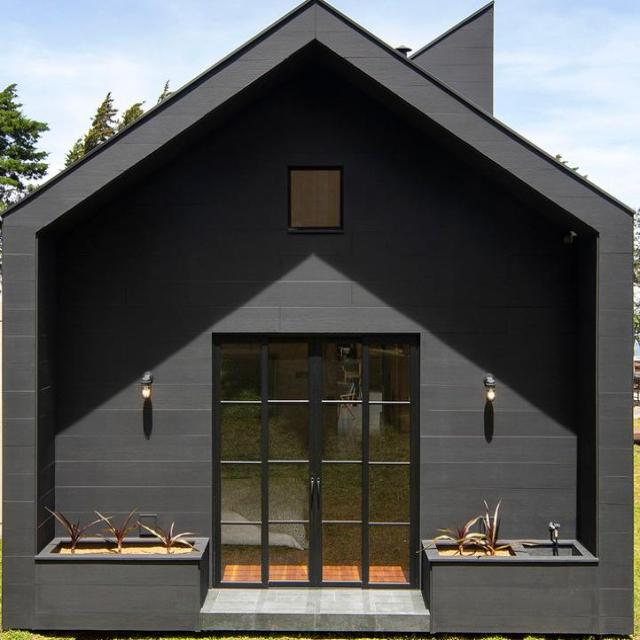door: (210, 330, 420, 589)
window: (290, 171, 342, 233)
